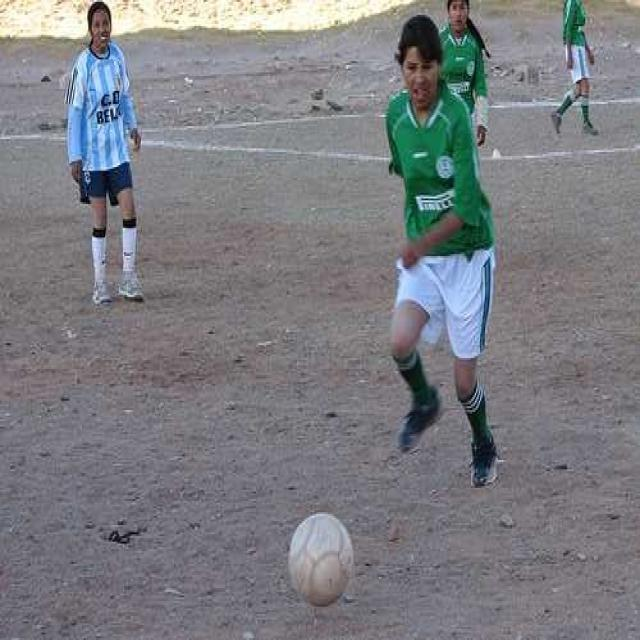ball: (289, 514, 354, 605)
